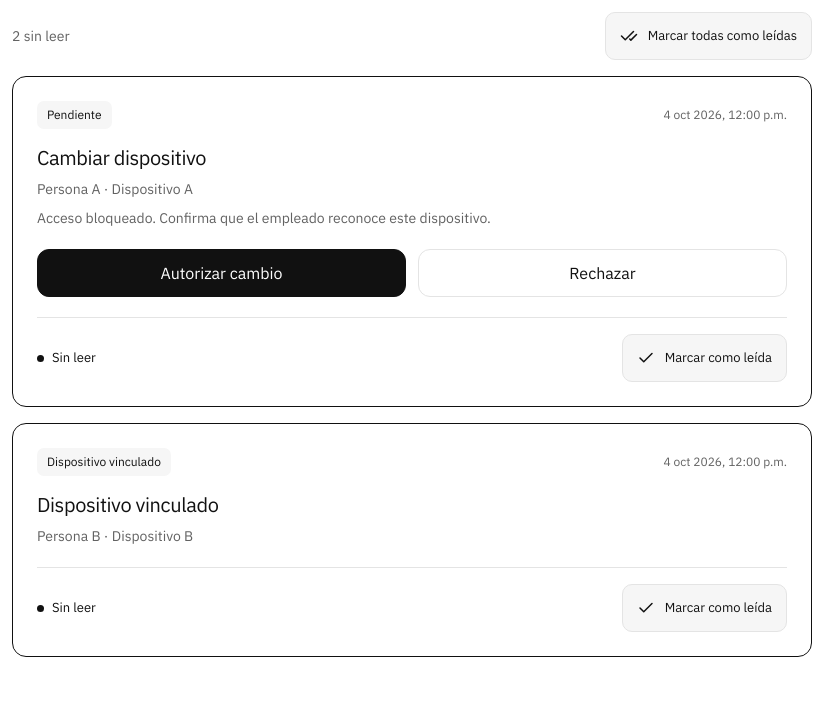
Test: mark all reads only unread rows and preserves each confirmed result on partial failure
The width and height of the screenshot is (829, 714).
Click the button "Marcar todas como leídas".
click(708, 36)  # box [605,12,812,60]
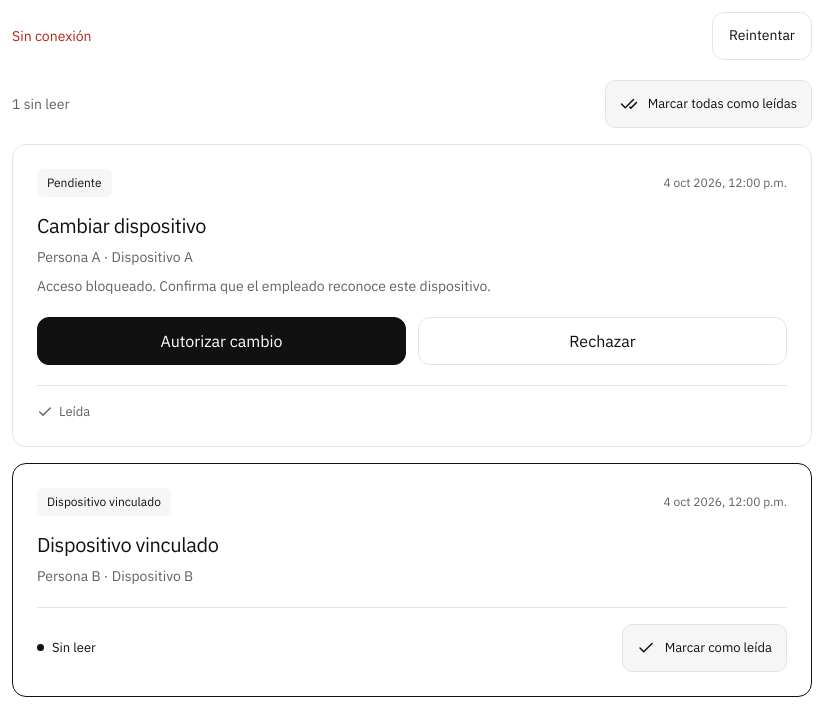
Expected: the message "Sin conexión" is shown, [12,26,92,46]
Expected: the message reads "Sin conexión", [12,26,92,44]
Expected: the text "Leída" is shown, [37,402,90,422]
